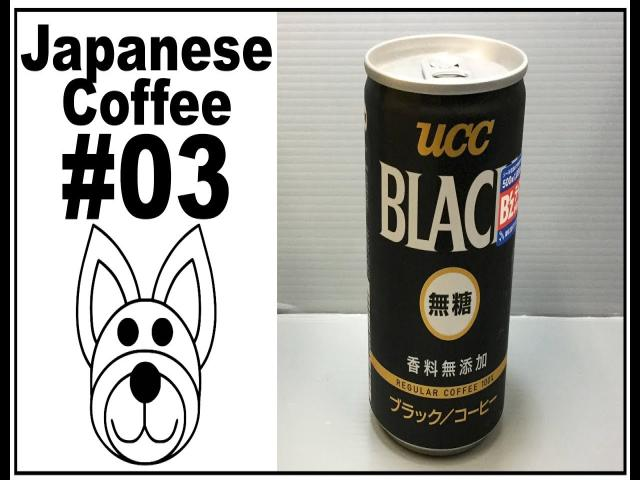Canned_drinks: (365, 37, 528, 454)
